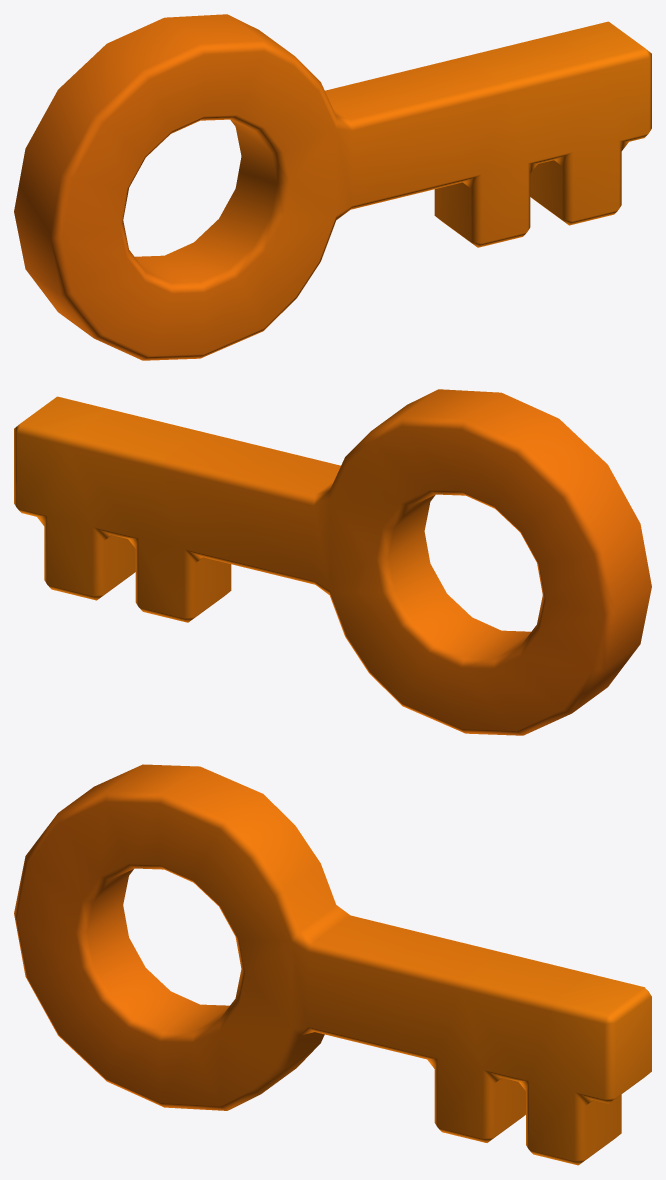
File: key_001.fbx
3 renders of one model, top to bottom at view 1: azimuth 30°, elevation 25°; view 2: azimuth 150°, elevation 25°; view 3: azimuth 330°, elevation 25°, orthographic.
Parts seen in each view (by area): view 1: key_001; view 2: key_001; view 3: key_001.
Boxes of the visible parts, x1,y1,x2,y2 form: key_001: [14, 14, 651, 360]; key_001: [14, 389, 651, 735]; key_001: [14, 764, 651, 1165].
Bounding box in the file's own units: 129 × 16.47 × 64.41.
